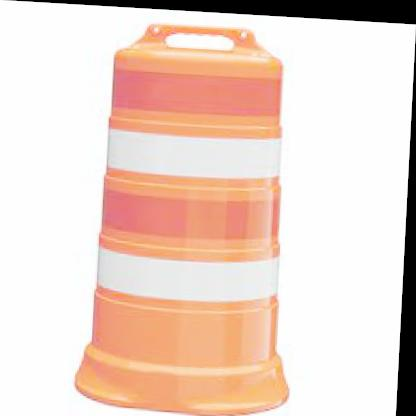obstacle: (90, 23, 295, 387)
